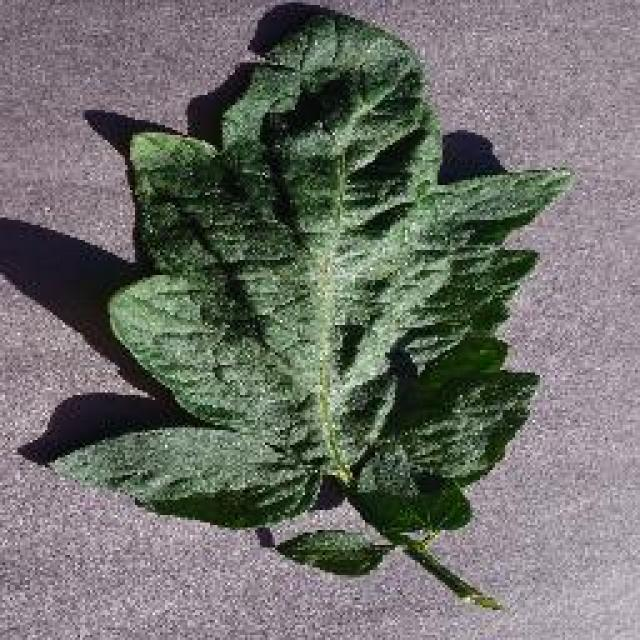Tomato___Target_Spot: (58, 8, 568, 605)
